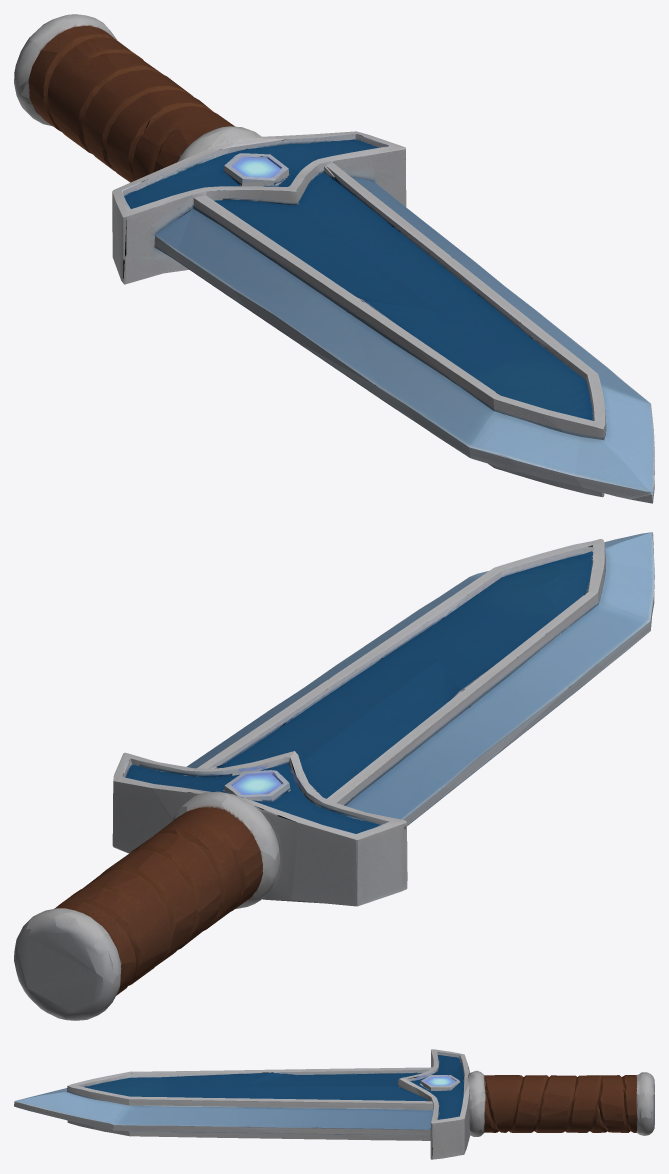
3 views of the same model, one above another, from view 1: azimuth 30°, elevation 25°; view 2: azimuth 150°, elevation 25°; view 3: azimuth 270°, elevation 25° (orthographic). The views are drawn at different scales.
Parts seen in each view (by area): view 1: db_g2; view 2: db_g2; view 3: db_g2.
Boxes of the visible parts, x1,y1,x2,y2 form: db_g2: [14, 14, 654, 503]; db_g2: [14, 532, 654, 1020]; db_g2: [14, 1049, 654, 1159].
Size of the model in its own units: 50.53 by 19.15 by 184.
1 material, 1 textured.
